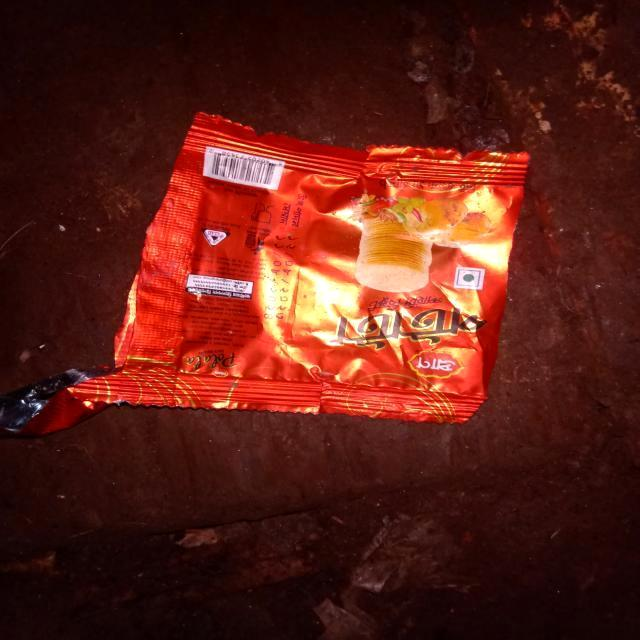packet: (135, 120, 505, 448), (2, 342, 123, 455)
